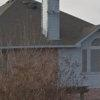Chimney: (34, 2, 68, 41)
